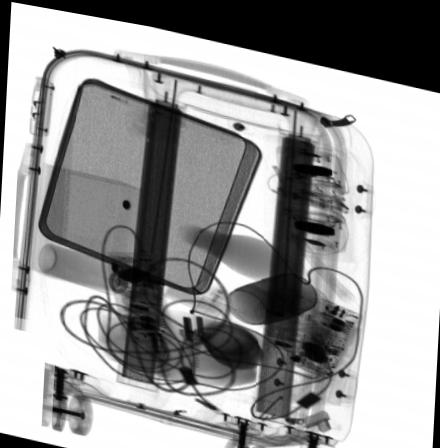Sprayer: (36, 241, 150, 296)
